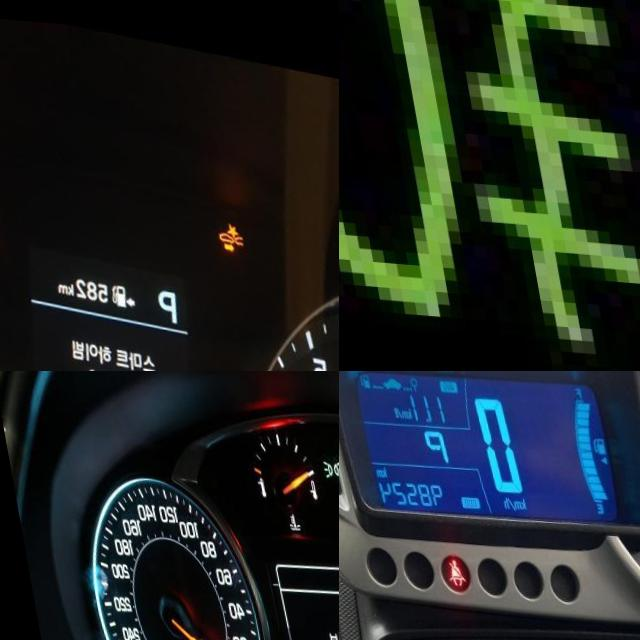FrontFogLight: (339, 0, 640, 328)
SideLamp: (313, 452, 335, 474)
